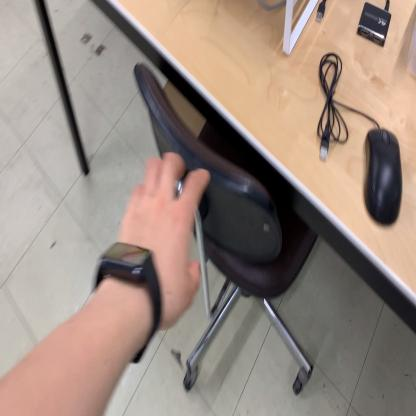chair: (132, 57, 320, 399)
